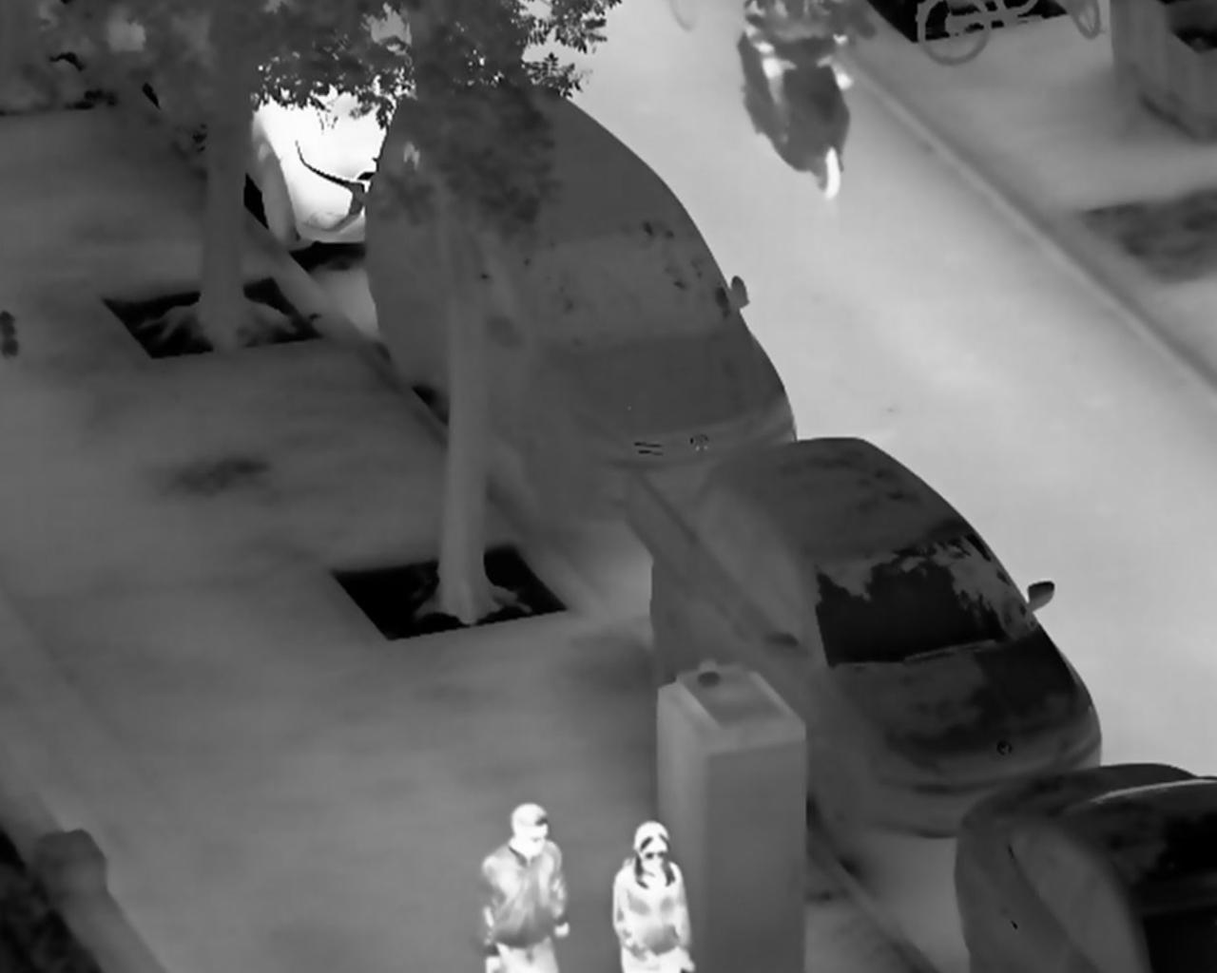person: (475, 802, 568, 973), (609, 818, 693, 973)
